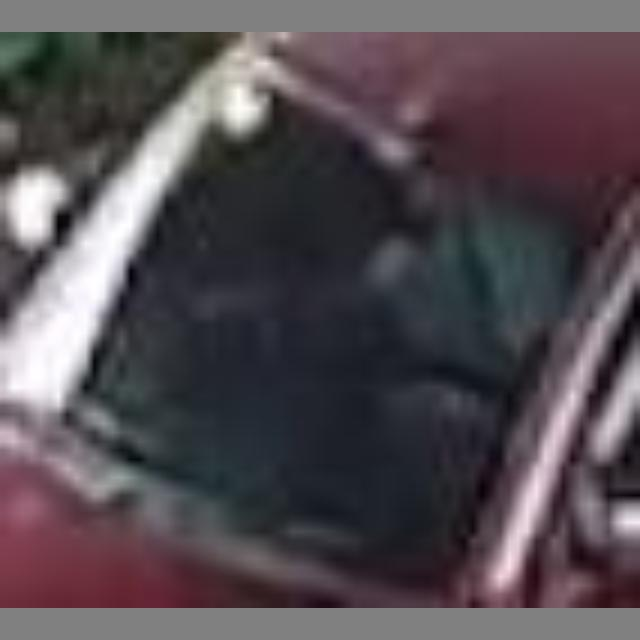pakai: (352, 176, 559, 393)
